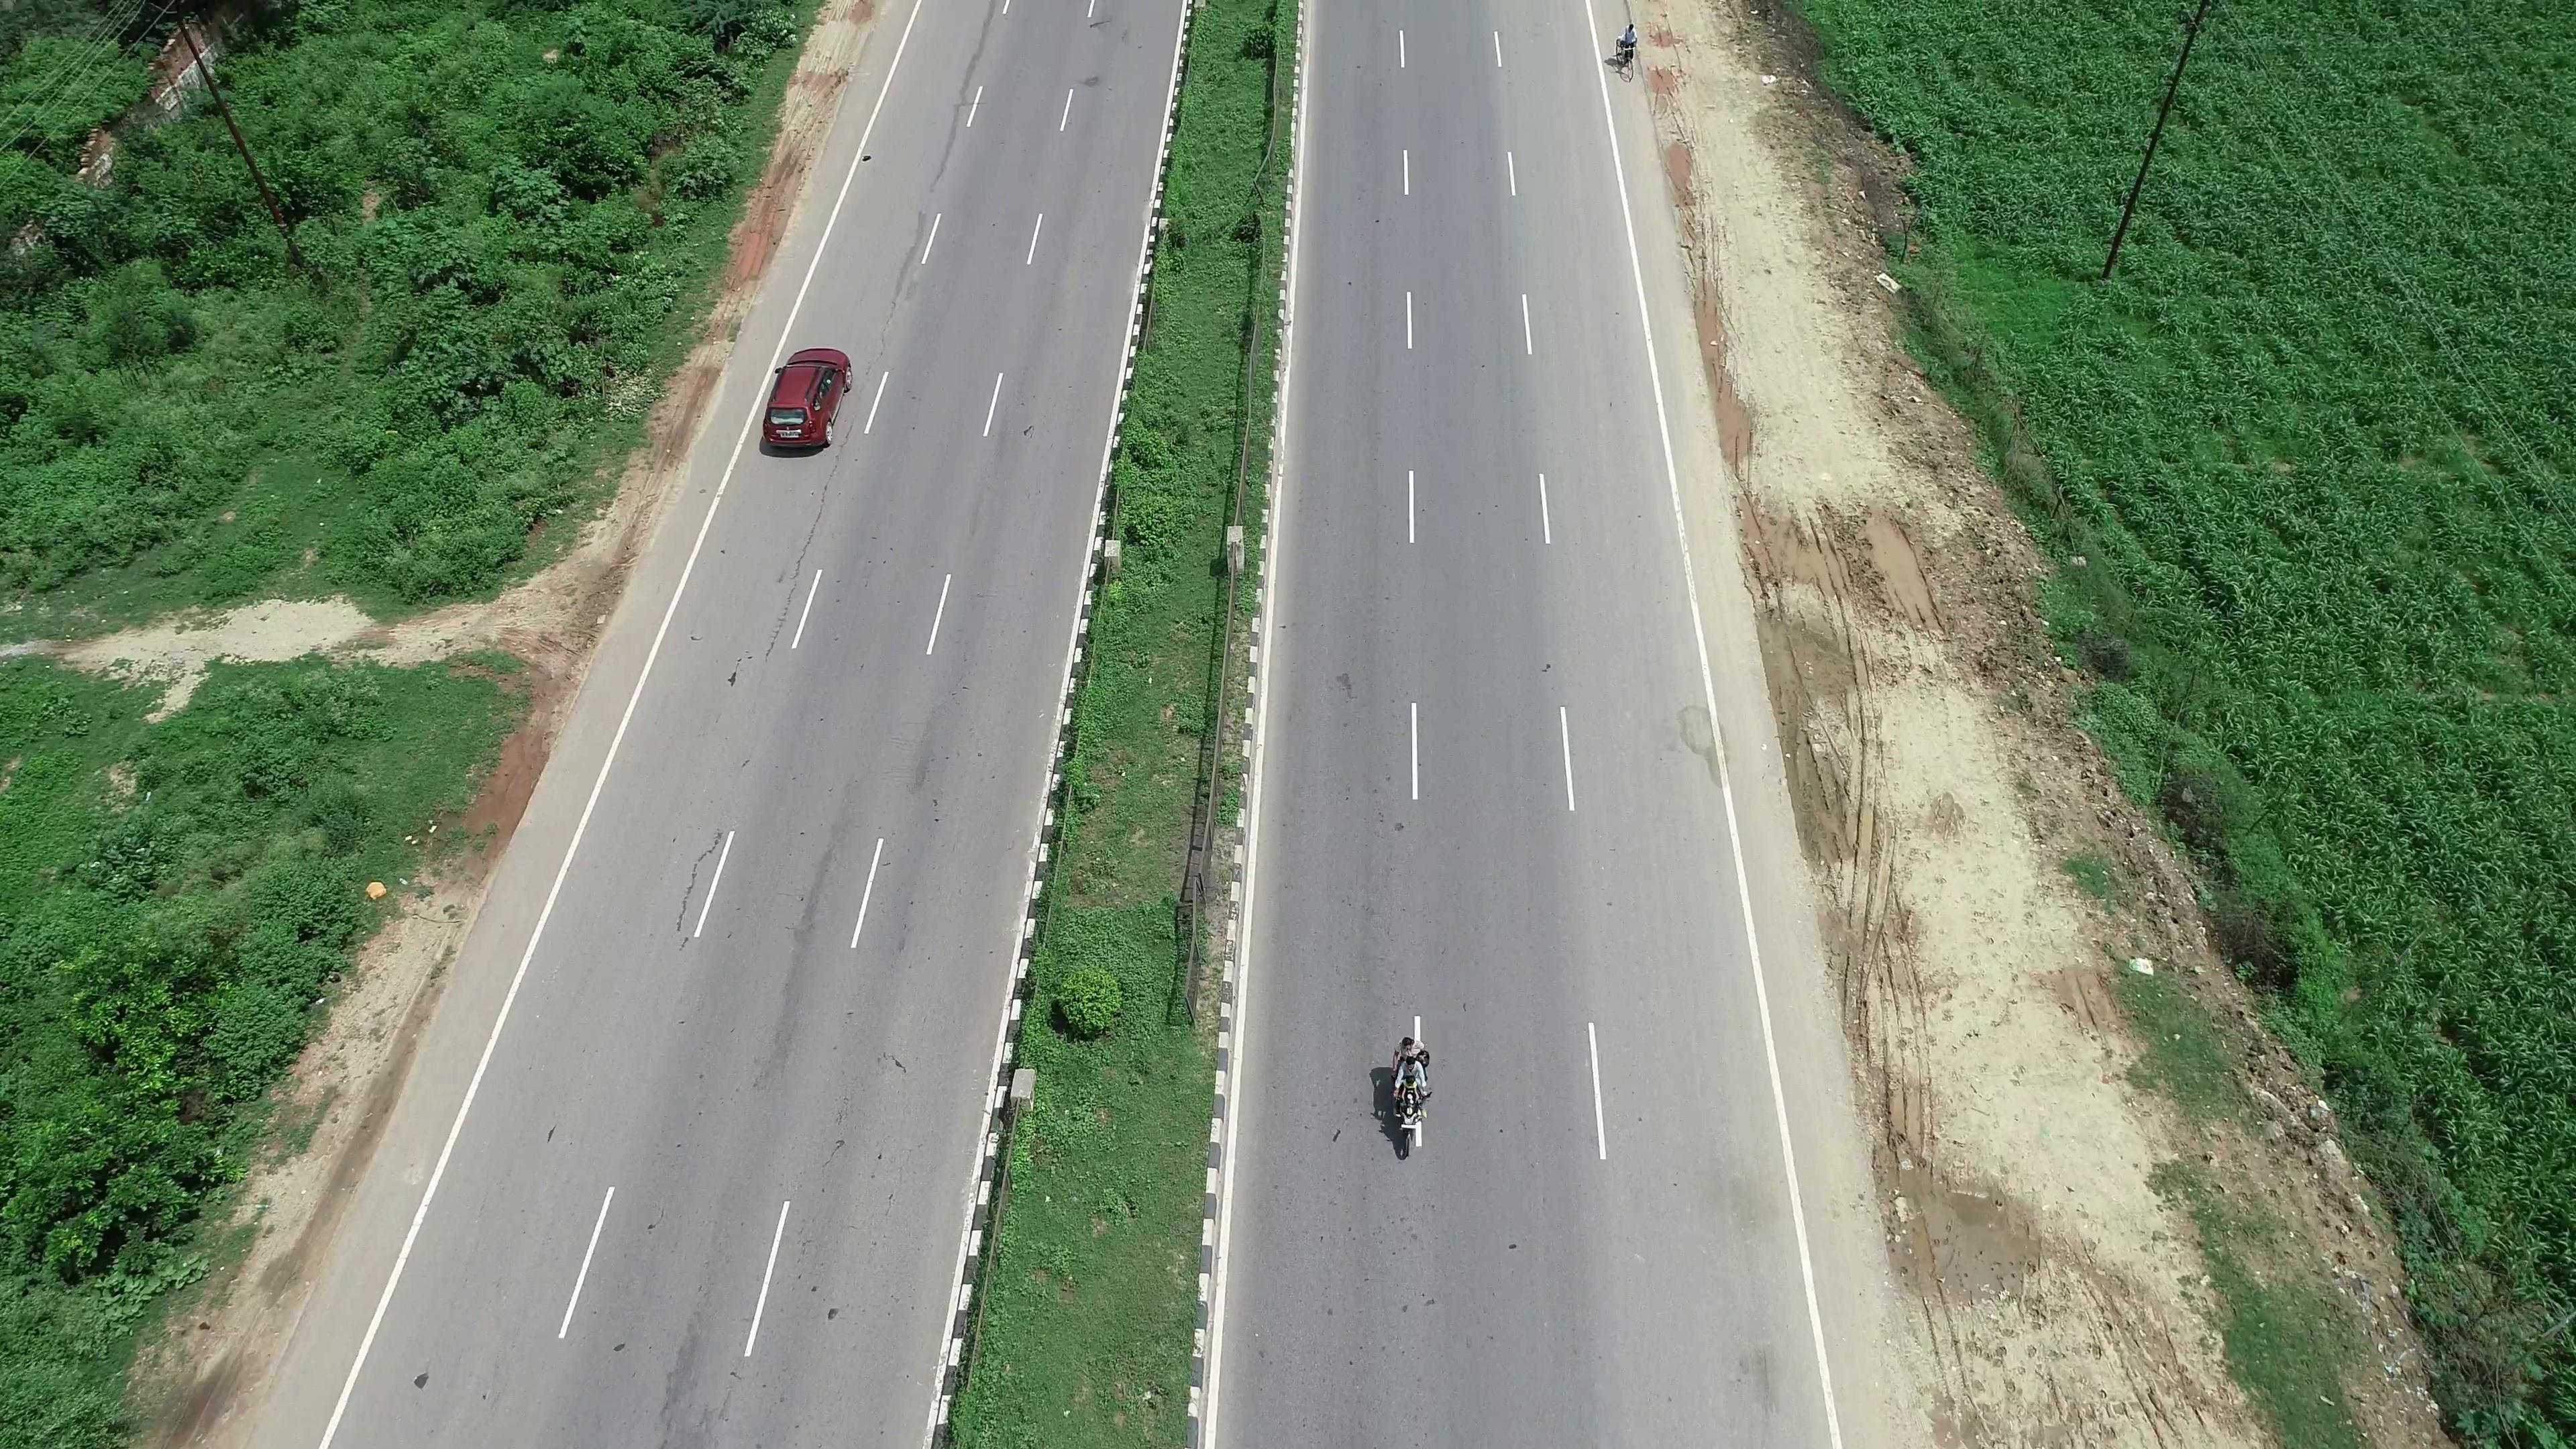Longitudinal_cracks: (763, 432, 851, 640)
